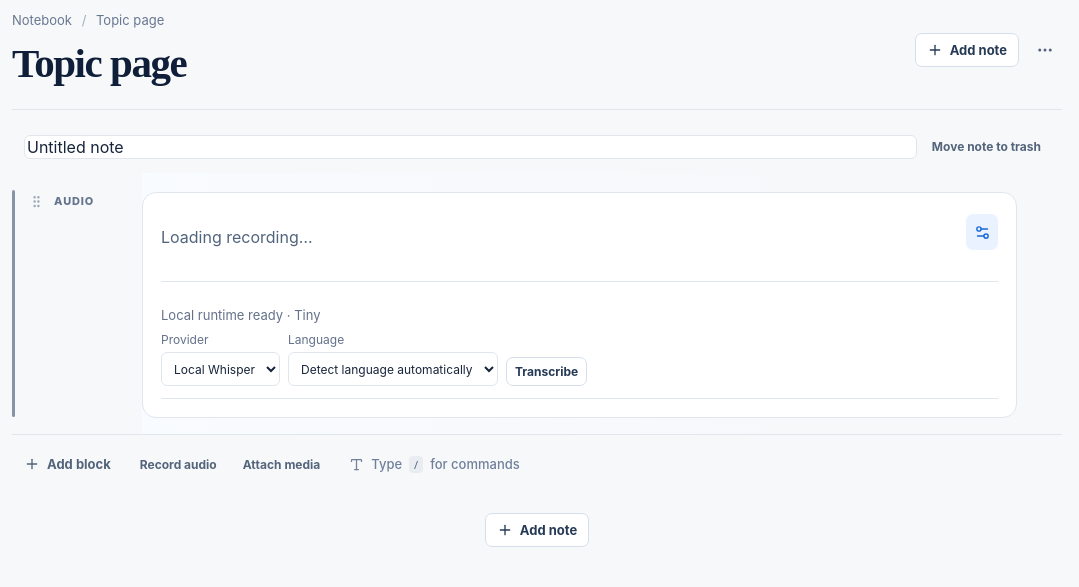
Test case: attachment and transcription interactions › starts local transcription with a language hint and displays job progress
Expected: the text "Local runtime ready · Tiny" is shown, [161,307,320,323]
Select "Arabic (ar)" in the dropdown named "Language hint" at (393, 369), box [288,352,498,386]
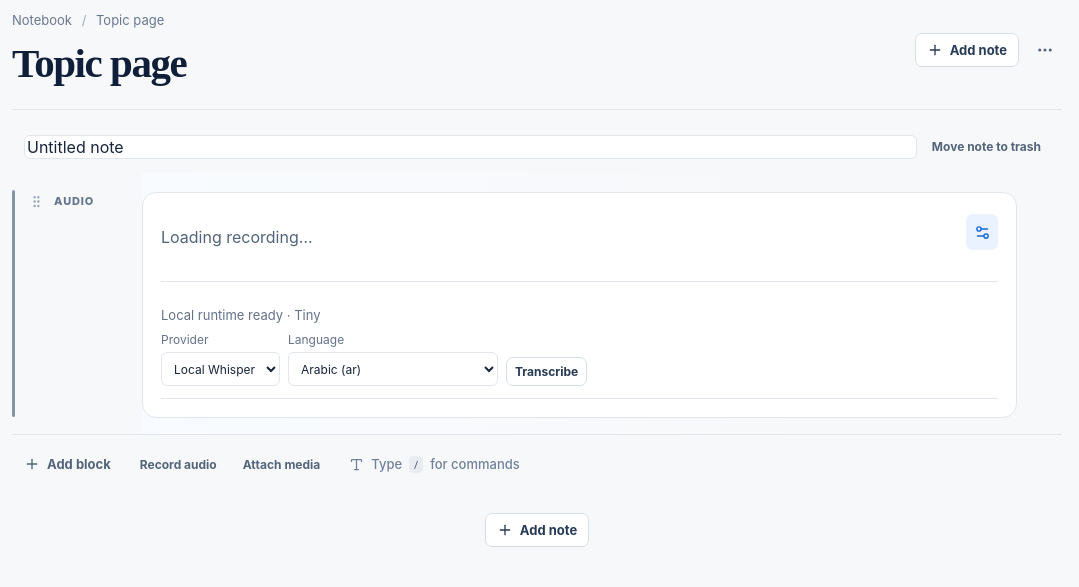
Click the button "Transcribe" at (547, 372), box [506,357,587,386]
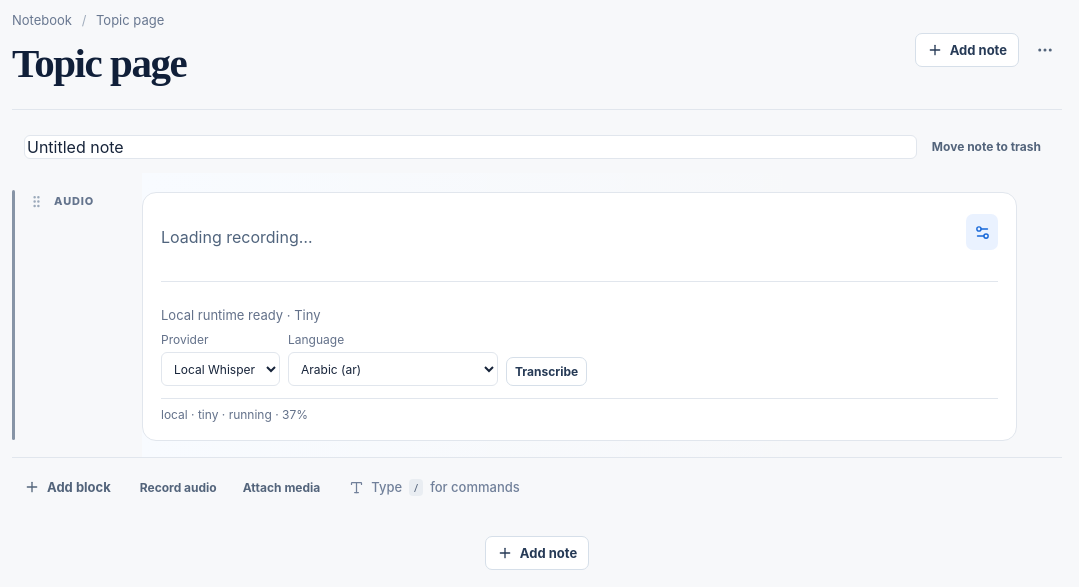
Expected: the text "local · tiny · running · 37%" is shown, [161,407,308,422]
